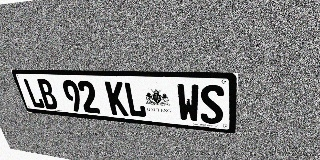2: (76, 80, 100, 114)
9: (61, 80, 85, 112)
B: (36, 79, 59, 110)
K: (105, 81, 129, 116)
L: (123, 82, 147, 118), (22, 78, 46, 109)
S: (200, 84, 224, 125)
W: (176, 84, 200, 123)
